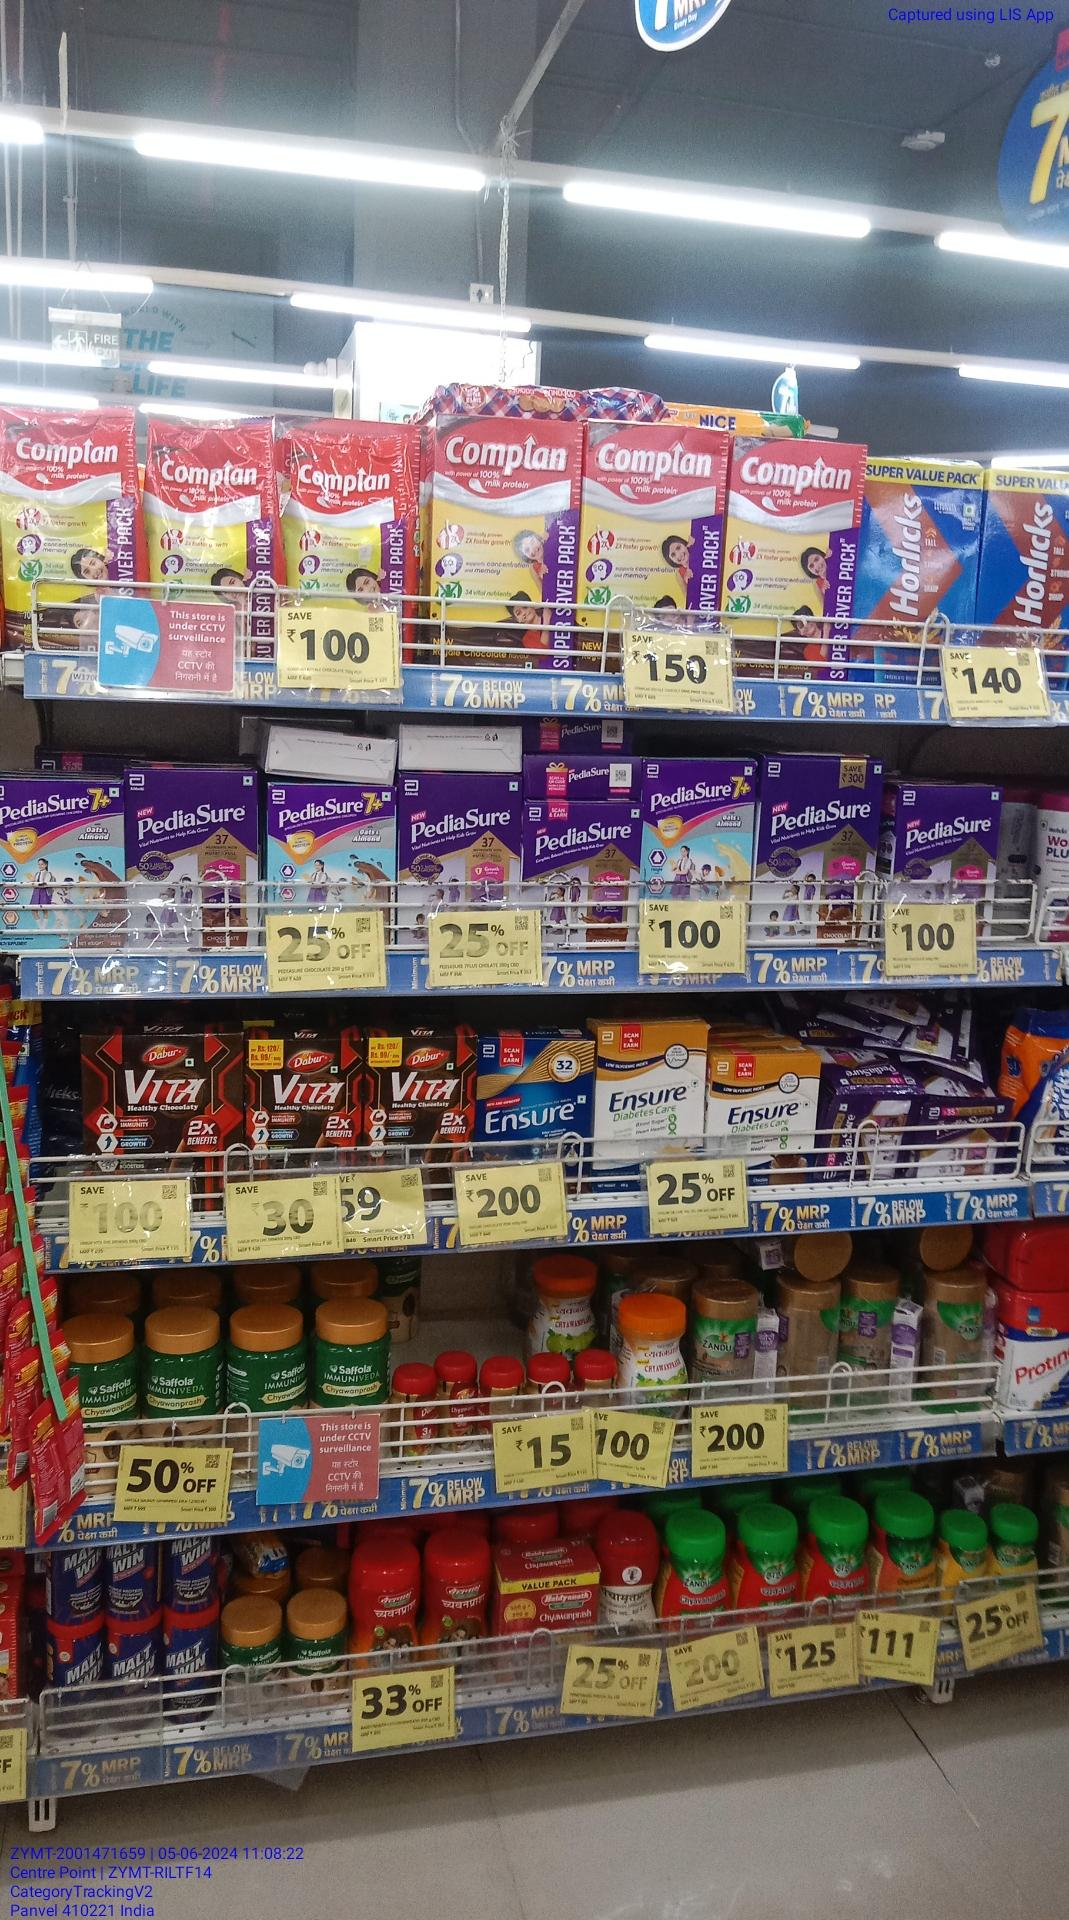COMPLAN_CHOCOLATE_1_KG_PACK: (430, 418, 574, 670), (729, 434, 847, 683), (583, 420, 717, 630)
COMPLAN_RC_POUCH_700_GMS_12: (3, 411, 140, 592), (147, 412, 275, 600), (283, 429, 412, 608)
HORLICK_CHOCOLATE_1_KG_PACK: (853, 461, 977, 653), (982, 470, 1069, 646)
PEDIASURE_CHOCOLATE_500_G_PACK: (760, 755, 873, 947)
